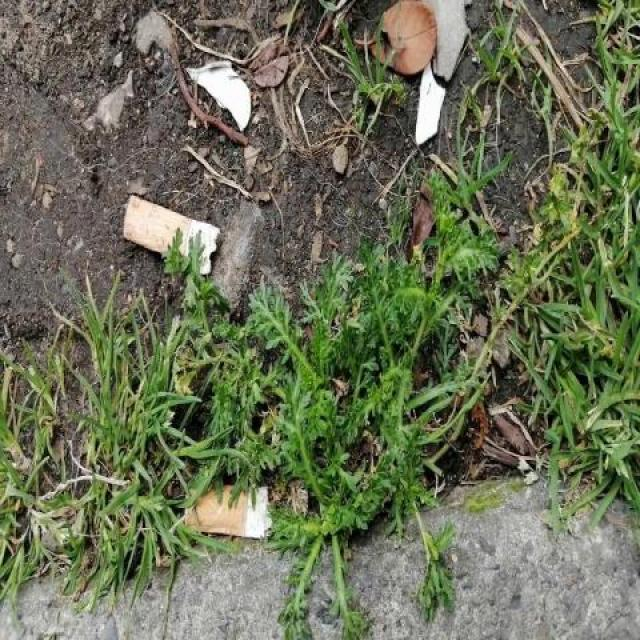non-organic waste: (119, 192, 222, 281), (180, 476, 276, 544)
